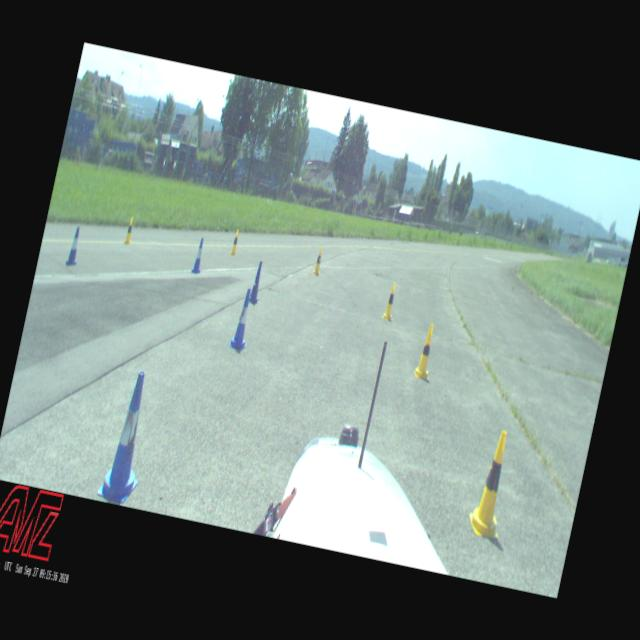blue_cone: (96, 368, 160, 506), (228, 287, 256, 351), (248, 260, 266, 304), (65, 226, 83, 266), (190, 236, 208, 274)
yellow_cone: (465, 426, 520, 538), (413, 322, 439, 380), (380, 281, 400, 321), (122, 216, 136, 245), (312, 246, 324, 275), (229, 228, 241, 256)
